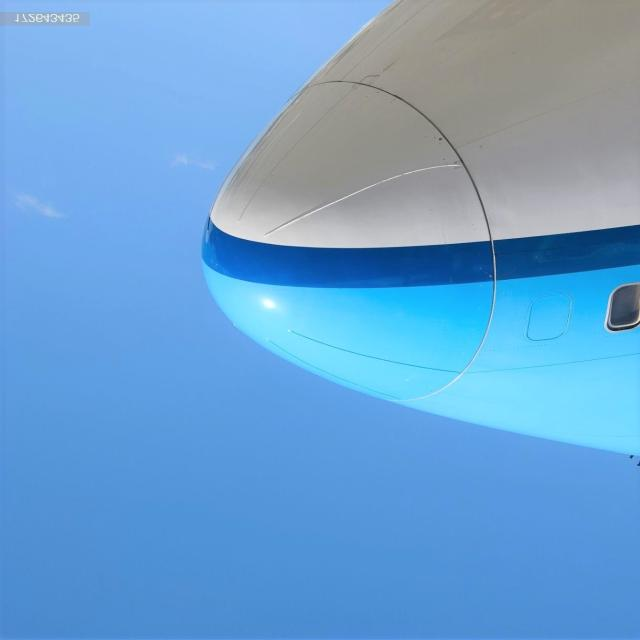Rupture: (349, 73, 392, 85)
